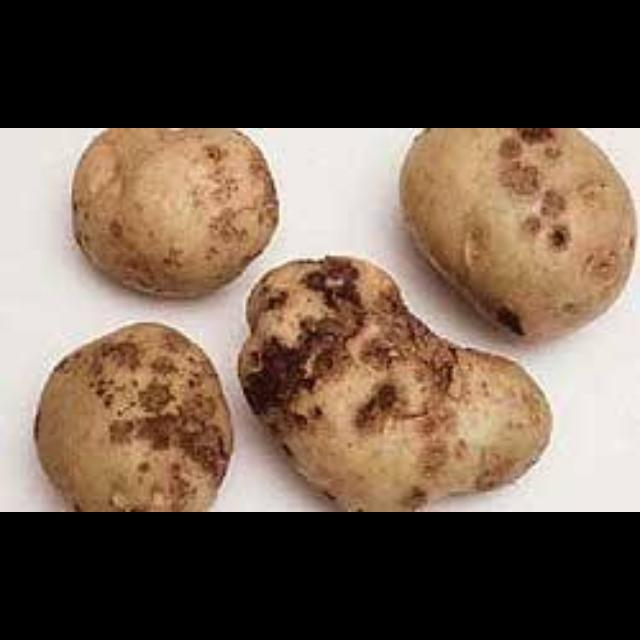Defected potato: (240, 255, 554, 509), (397, 128, 637, 342), (13, 304, 248, 512), (64, 134, 304, 298)
